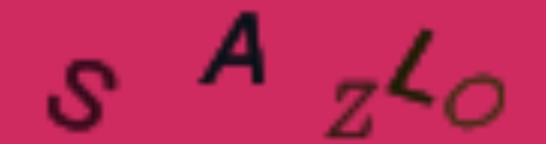A: (194, 7, 272, 91)
L: (382, 23, 441, 109)
O: (443, 67, 509, 135)
S: (45, 54, 123, 136)
Z: (322, 76, 382, 142)
